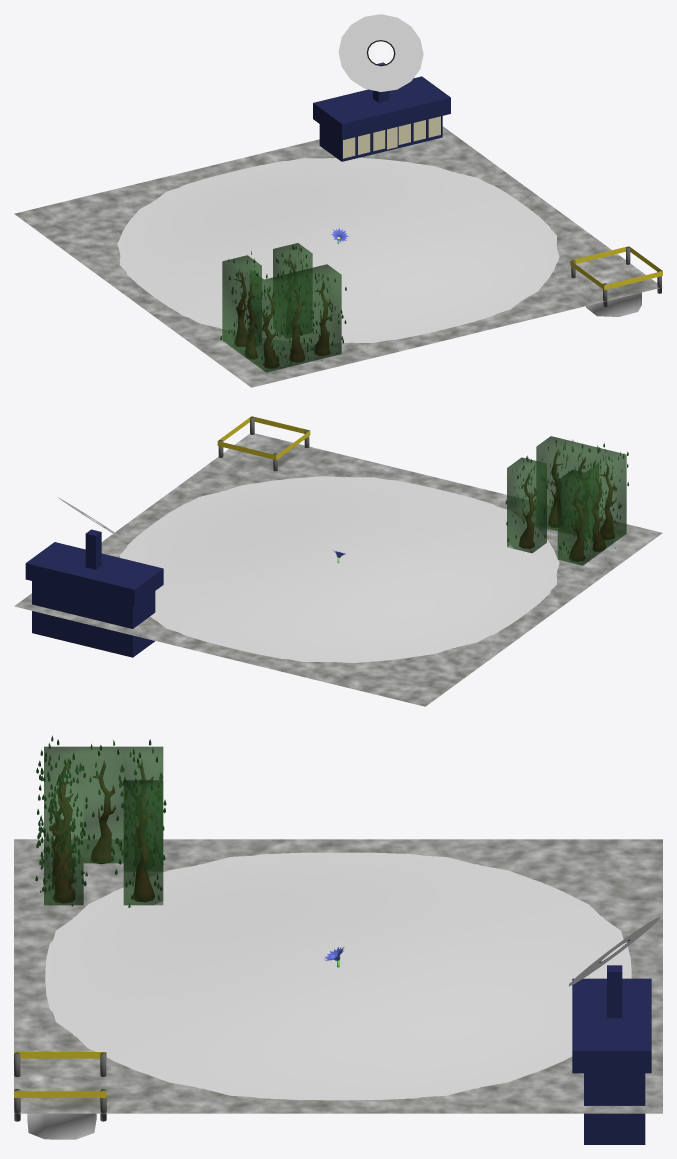
The model's file is rock_kicking_purgatory_ground_2.glb.
The picture shows the model from 3 angles, top to bottom: view 1: azimuth 30°, elevation 25°; view 2: azimuth 150°, elevation 25°; view 3: azimuth 270°, elevation 25°; orthographic projection. The views are drawn at different scales.
Visible parts, largest first — view 1: Purgatory2Ground, Clouds, HedgeBush, VideoStore, Disk, Tape, Hedge; view 2: Purgatory2Ground, Clouds, HedgeBush, VideoStore, Tape, Hedge; view 3: Purgatory2Ground, Clouds, HedgeBush, VideoStore, Hedge, Tape, HedgeFlowers, Disk.
Part boxes in pixels (box(x1,y1,x2,y2)): Purgatory2Ground: box(14, 127, 662, 387); Clouds: box(14, 126, 662, 387); HedgeBush: box(222, 243, 341, 372); VideoStore: box(313, 62, 450, 161); Disk: box(338, 14, 423, 91); Tape: box(570, 246, 662, 307); Hedge: box(244, 270, 346, 367); Purgatory2Ground: box(14, 433, 662, 706); Clouds: box(15, 433, 661, 706); HedgeBush: box(507, 436, 626, 565); VideoStore: box(25, 529, 163, 657); Tape: box(217, 416, 310, 471); Hedge: box(533, 439, 628, 539); Purgatory2Ground: box(14, 839, 662, 1139); Clouds: box(14, 839, 662, 1113); HedgeBush: box(44, 746, 163, 905); VideoStore: box(572, 965, 651, 1144); Hedge: box(35, 735, 87, 906); Tape: box(14, 1052, 106, 1121); HedgeFlowers: box(115, 778, 165, 907); Disk: box(569, 916, 660, 986).
Size of the model in its own units: 500 by 165 by 500.
15 materials, 1 textured.
